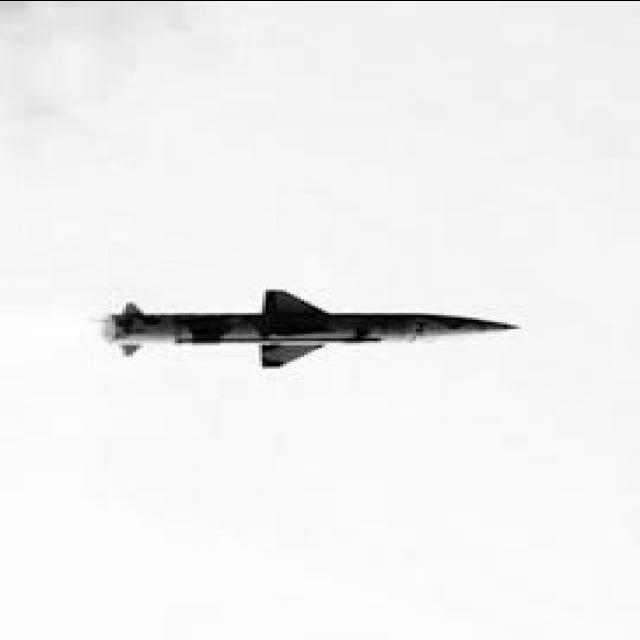missile: (93, 288, 530, 371)
